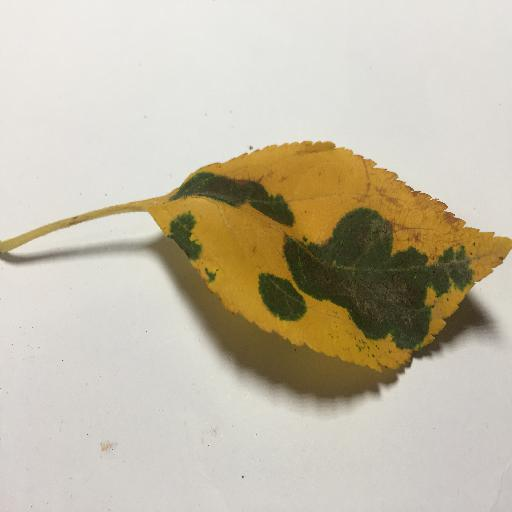Brown_Spot: (300, 247, 448, 351), (190, 171, 291, 215)
